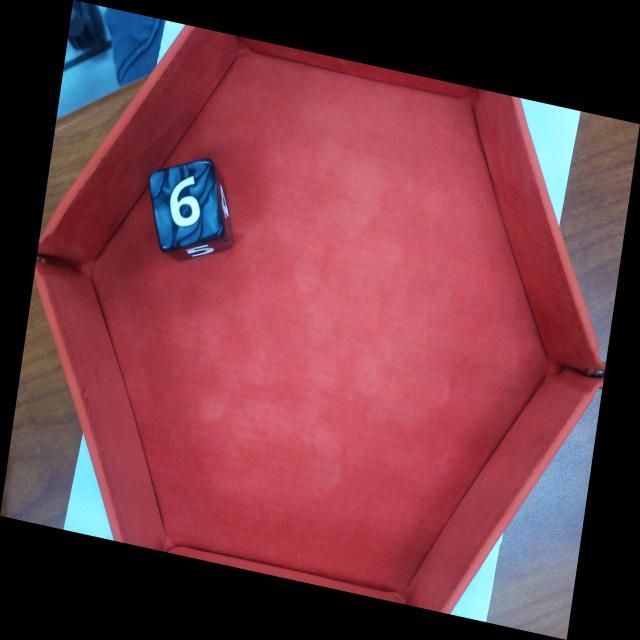dice: (152, 159, 221, 250)
